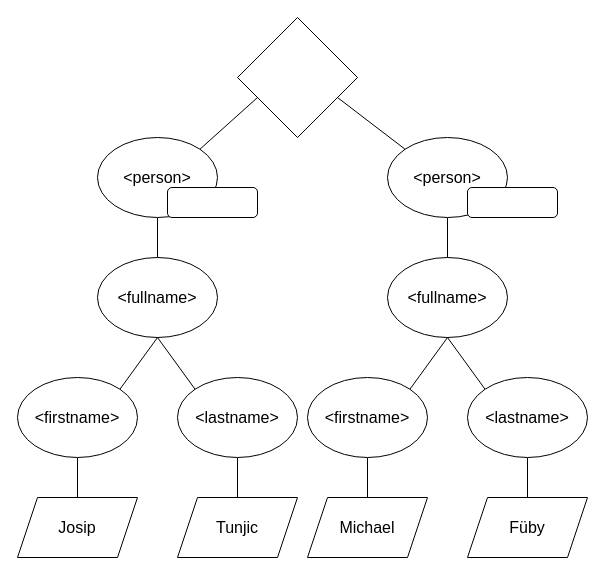
This 605x575 diagram has some shape labels left out. Each missing label, with the centre of its shape:
id="1": (x=212, y=202)
id="2": (x=512, y=202)
Root <people>: (x=297, y=77)
